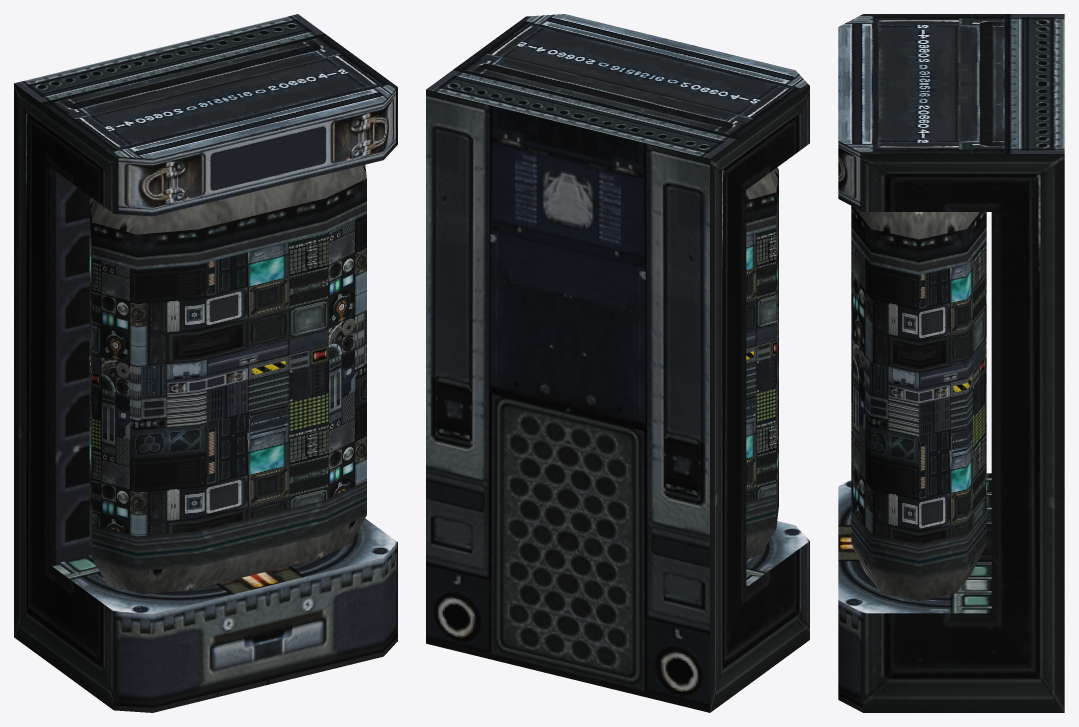
Rendered from Battery_small_08.FBX.
The picture shows the model from 3 angles, left to right: view 1: azimuth 30°, elevation 25°; view 2: azimuth 150°, elevation 25°; view 3: azimuth 270°, elevation 25°; orthographic projection.
Parts seen in each view (by area): view 1: Battery_small_08, Liquid; view 2: Battery_small_08, Liquid; view 3: Battery_small_08, Liquid.
Boxes of the visible parts, x1,y1,x2,y2 form: Battery_small_08: (14, 14, 397, 712); Liquid: (89, 214, 366, 536); Battery_small_08: (426, 14, 809, 712); Liquid: (746, 206, 778, 501); Battery_small_08: (838, 14, 1064, 712); Liquid: (851, 240, 986, 543).
Size of the model in its own units: 80.82 by 151 by 55.26.
